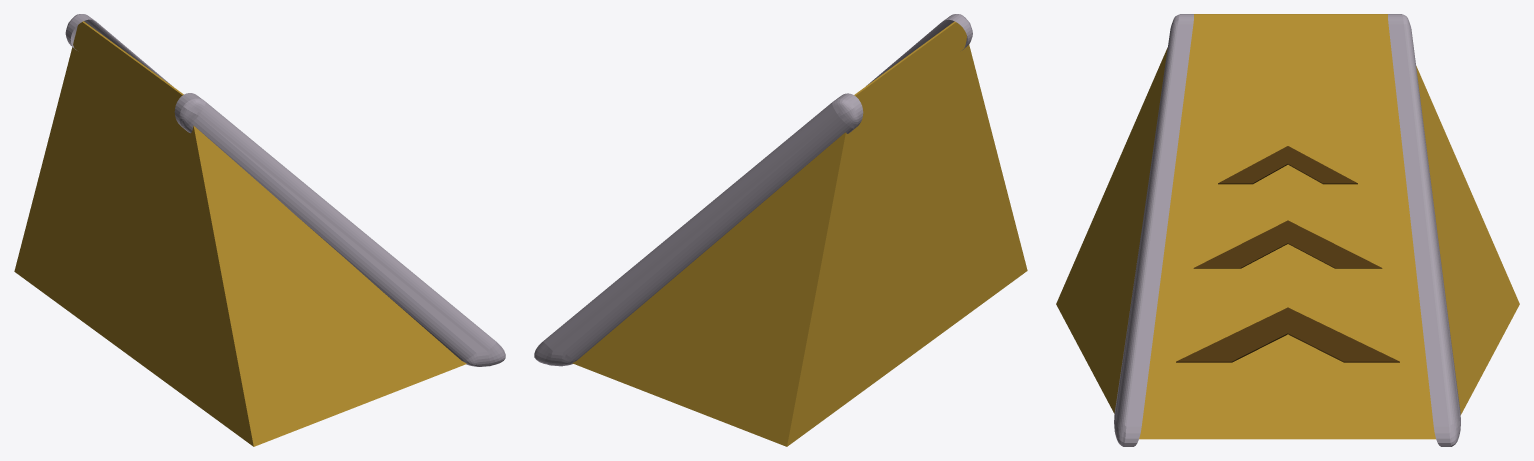
Rendered from Rump.fbx.
3 views of the same model, side by side, from view 1: azimuth 30°, elevation 25°; view 2: azimuth 150°, elevation 25°; view 3: azimuth 270°, elevation 25° (orthographic). The views are drawn at different scales.
Parts seen in each view (by area): view 1: Cube, Cube.004; view 2: Cube, Cube.004; view 3: Cube, Cube.004, Cube.003, Cube.002, Cube.001.
Boxes of the visible parts, x1=… form: Cube: x1=14, y1=21, x2=466, y2=446; Cube.004: x1=65, y1=14, x2=505, y2=366; Cube: x1=572, y1=21, x2=1027, y2=446; Cube.004: x1=534, y1=14, x2=972, y2=366; Cube: x1=1056, y1=14, x2=1519, y2=439; Cube.004: x1=1114, y1=14, x2=1460, y2=446; Cube.003: x1=1176, y1=307, x2=1399, y2=362; Cube.002: x1=1193, y1=220, x2=1382, y2=268; Cube.001: x1=1218, y1=146, x2=1357, y2=184.
Size of the model in its own units: 207 by 207 by 290.
